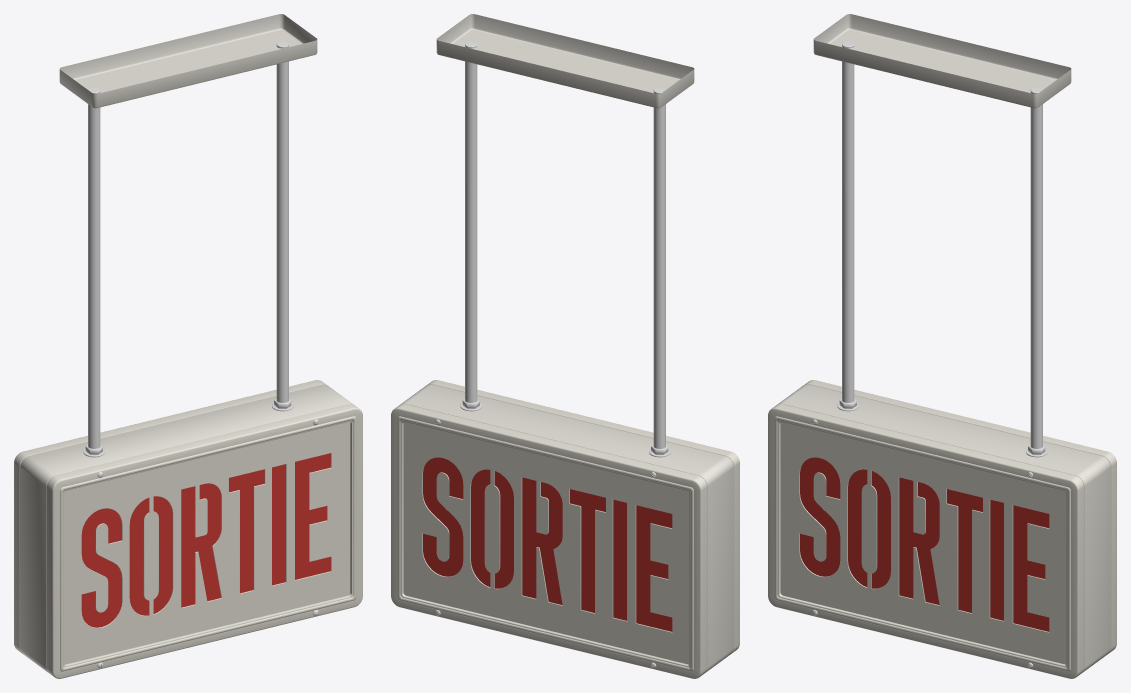
File: Kit_ExitSign_Hanging.fbx
3 views of the same model, side by side, from view 1: azimuth 30°, elevation 25°; view 2: azimuth 150°, elevation 25°; view 3: azimuth 330°, elevation 25° (orthographic).
Parts seen in each view (by area): view 1: Kit_ExitSign_Hanging_LOD0; view 2: Kit_ExitSign_Hanging_LOD0; view 3: Kit_ExitSign_Hanging_LOD0.
Part boxes in pixels (x1,y1,x2,y2): Kit_ExitSign_Hanging_LOD0: (14,14,362,678); Kit_ExitSign_Hanging_LOD0: (391,14,739,678); Kit_ExitSign_Hanging_LOD0: (768,14,1116,678).
Size of what is drawn, in the model's own units: 0.346 by 0.612 by 0.0789.
